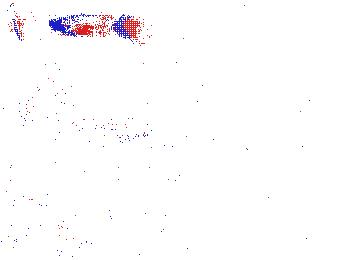X-ray fish: (13, 77, 91, 123)
redtail glassfish: (48, 112, 154, 148), (46, 10, 131, 40)
